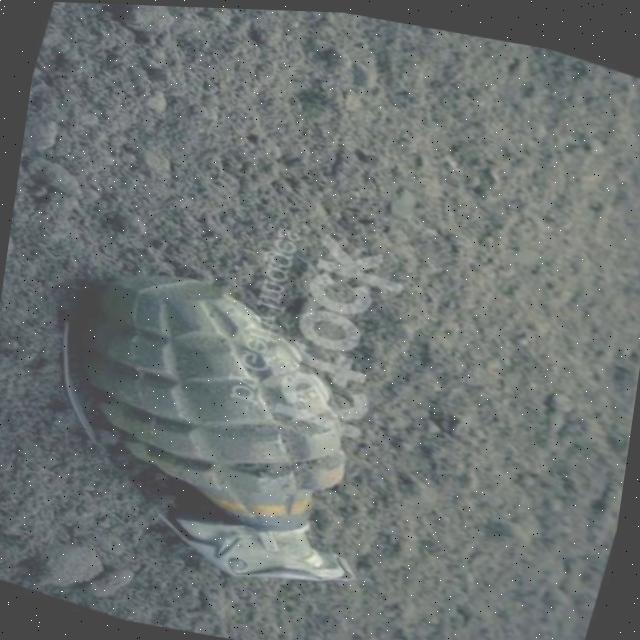grenade: (1, 233, 424, 613)
